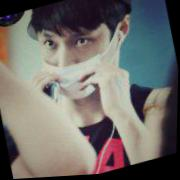WRONG: (35, 10, 124, 109)
